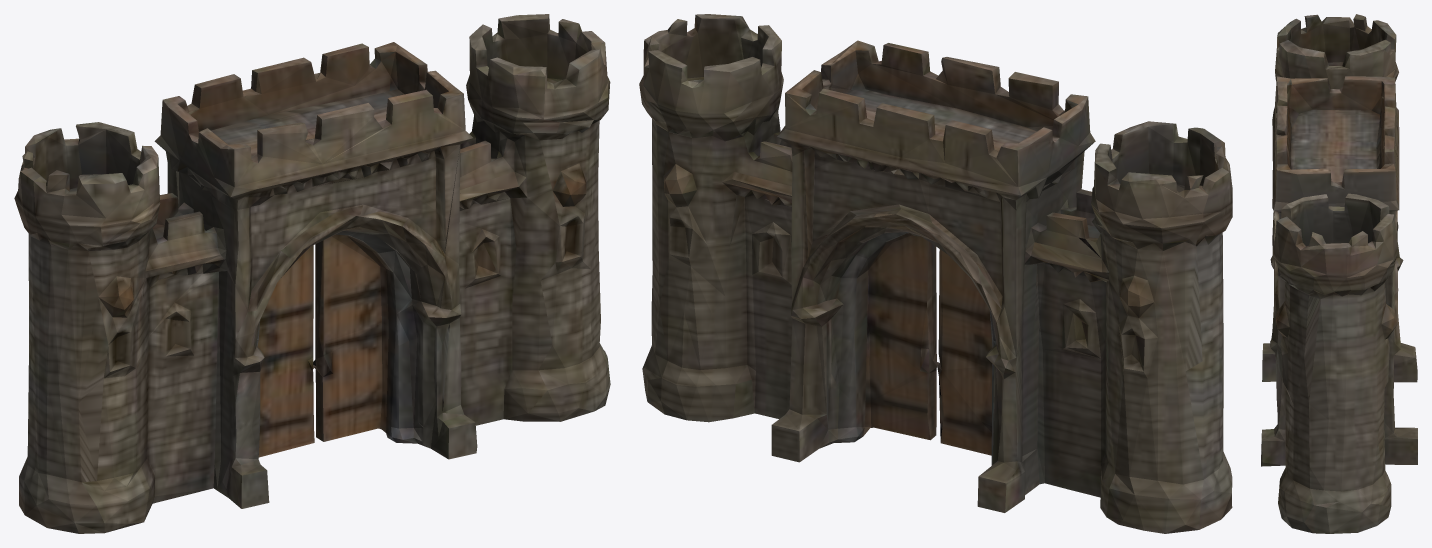
Rendered from gate_dark_towers_lod1.glb.
3 views of the same model, side by side, from view 1: azimuth 30°, elevation 25°; view 2: azimuth 150°, elevation 25°; view 3: azimuth 270°, elevation 25° (orthographic). The views are drawn at different scales.
Parts seen in each view (by area): view 1: gate_dark_towers_lod1; view 2: gate_dark_towers_lod1; view 3: gate_dark_towers_lod1.
Part boxes in pixels (x1=…): gate_dark_towers_lod1: x1=14, y1=14, x2=610, y2=533; gate_dark_towers_lod1: x1=639, y1=14, x2=1232, y2=533; gate_dark_towers_lod1: x1=1261, y1=14, x2=1417, y2=533.
Bounding box in the file's own units: 13.96 × 8.47 × 3.96.
1 material, 1 textured.
